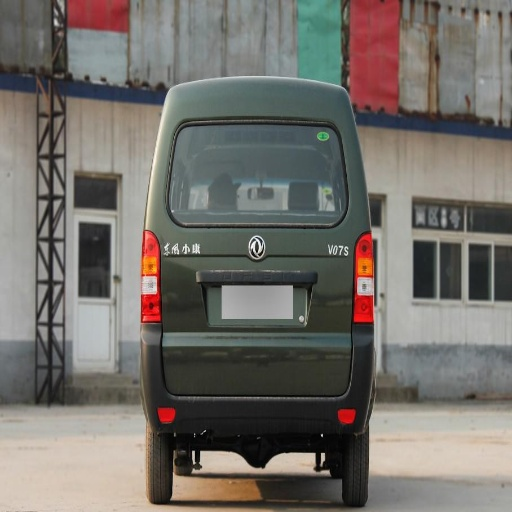back_bumper: (148, 323, 374, 434)
back_left_light: (142, 246, 161, 324)
tailgate: (162, 187, 342, 326)
trunk: (169, 215, 361, 391)
